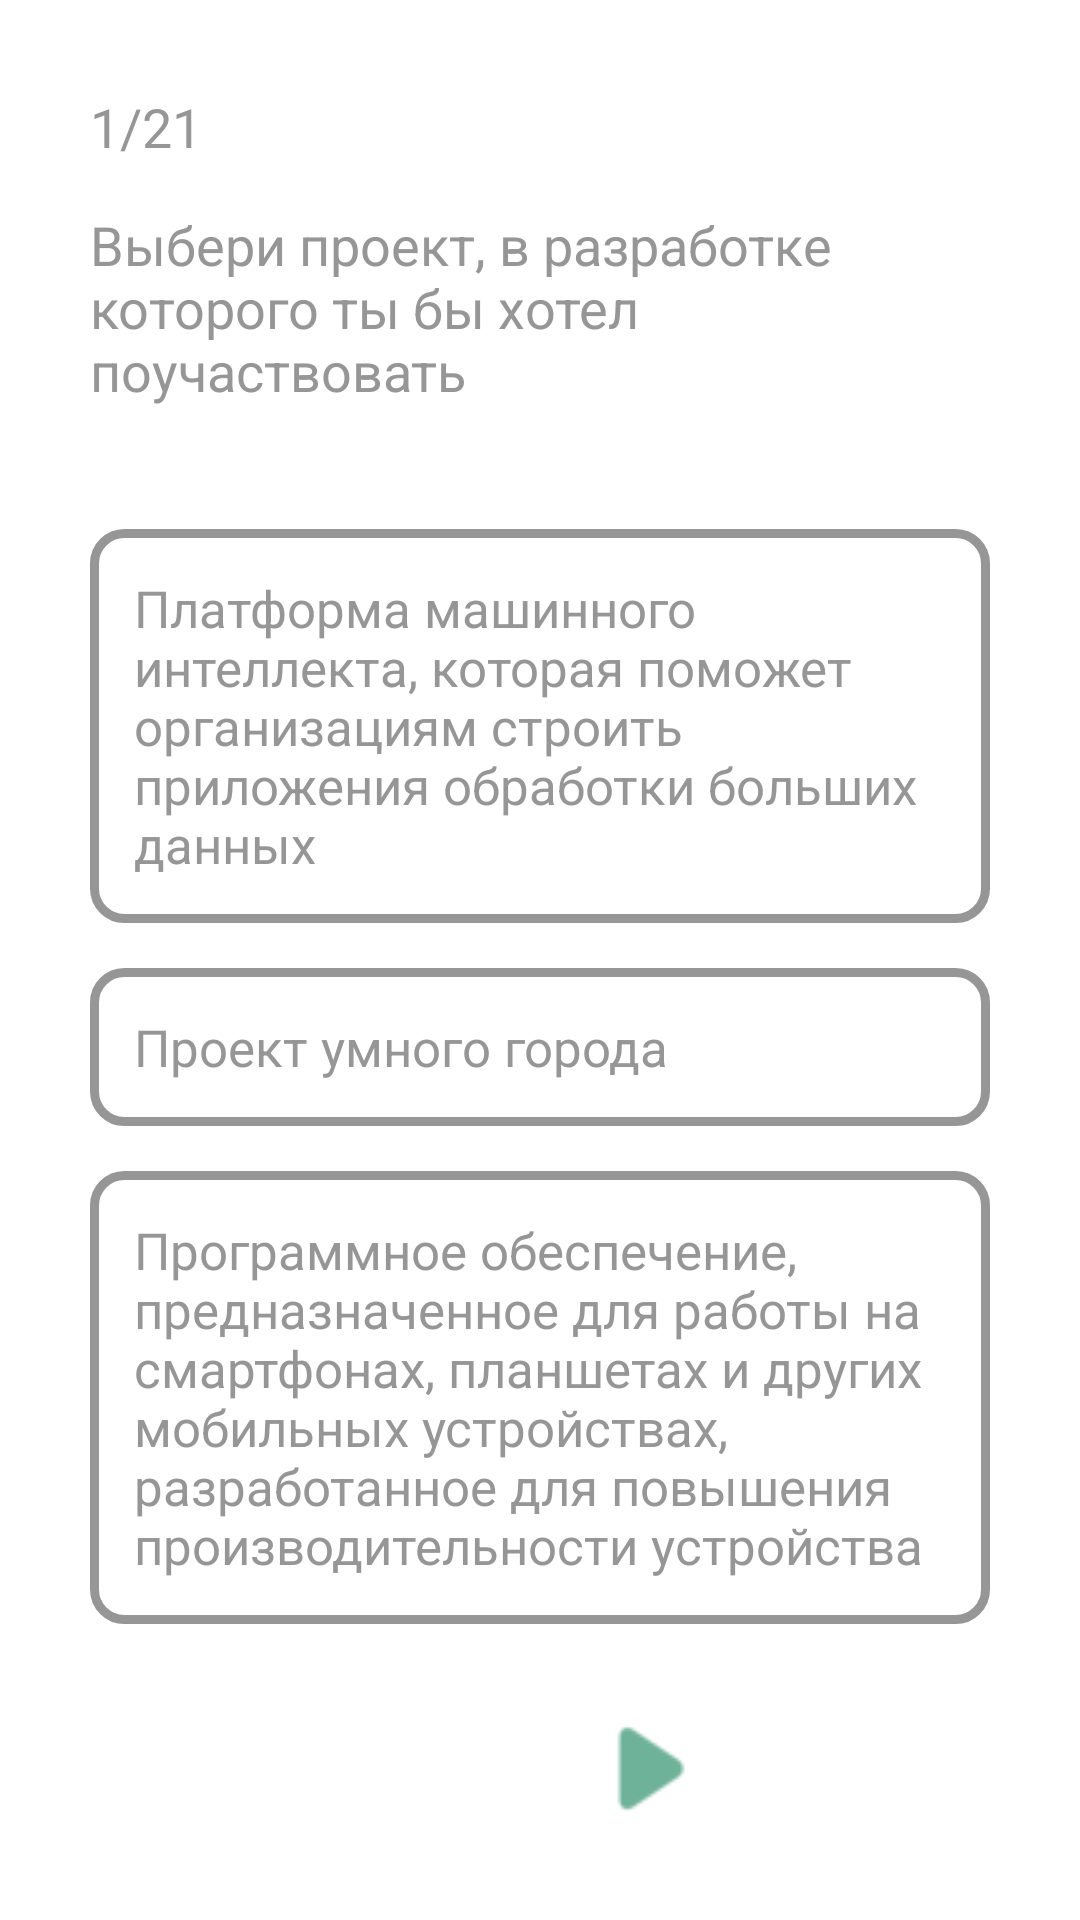

Where icons sit on this 1080×1920 app screen, as (x1, y1, x2, y2):
right: (618, 1727, 685, 1810)
